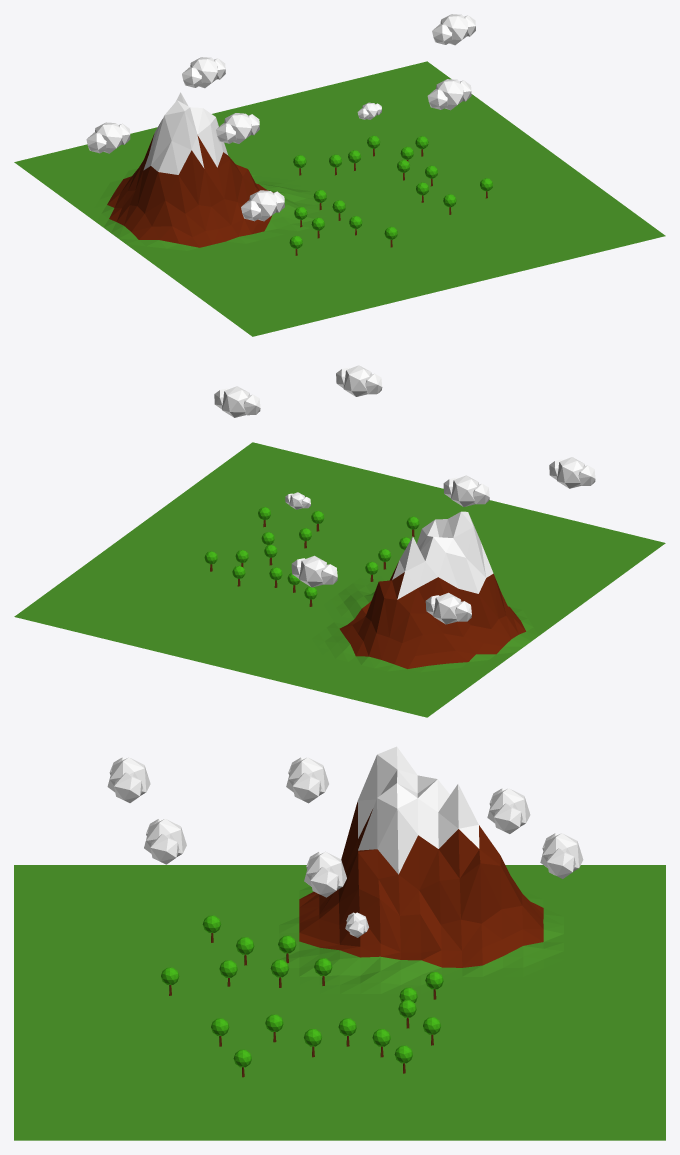
The model's file is Tree.fbx.
3 renders of one model, top to bottom at view 1: azimuth 30°, elevation 25°; view 2: azimuth 150°, elevation 25°; view 3: azimuth 270°, elevation 25°, orthographic. The views are drawn at different scales.
Visible parts, largest first — view 1: Plane, Icosphere.005, Icosphere.002, Icosphere.006, Icosphere.004, Icosphere.003, Icosphere.001; view 2: Plane, Icosphere.005, Icosphere.001, Icosphere.002, Icosphere.004, Icosphere.003, Icosphere.006; view 3: Plane, Icosphere.006, Icosphere.003, Icosphere.001, Icosphere.004, Icosphere.005, Icosphere.002.
Boxes of the visible parts, x1,y1,x2,y2 form: Plane: (14, 61, 665, 336); Icosphere.005: (432, 14, 475, 45); Icosphere.002: (182, 57, 225, 88); Icosphere.006: (241, 190, 284, 221); Icosphere.004: (427, 79, 471, 110); Icosphere.003: (86, 122, 130, 153); Icosphere.001: (216, 113, 259, 143); Plane: (14, 442, 665, 717); Icosphere.005: (214, 386, 260, 417); Icosphere.001: (443, 475, 489, 506); Icosphere.002: (291, 555, 337, 587); Icosphere.004: (336, 365, 382, 396); Icosphere.003: (425, 592, 471, 624); Icosphere.006: (549, 457, 595, 488); Plane: (14, 746, 665, 1140); Icosphere.006: (107, 757, 150, 802); Icosphere.003: (487, 788, 530, 833); Icosphere.001: (286, 757, 328, 803); Icosphere.004: (144, 818, 186, 864); Icosphere.005: (304, 851, 346, 897); Icosphere.002: (540, 833, 583, 878).
Size of the model in its own units: 1592 by 599 by 1592.
